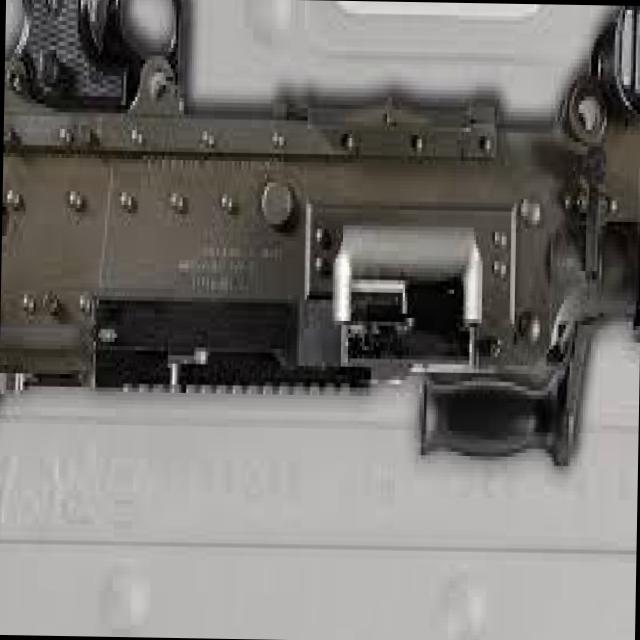Gun: (0, 0, 640, 508)
